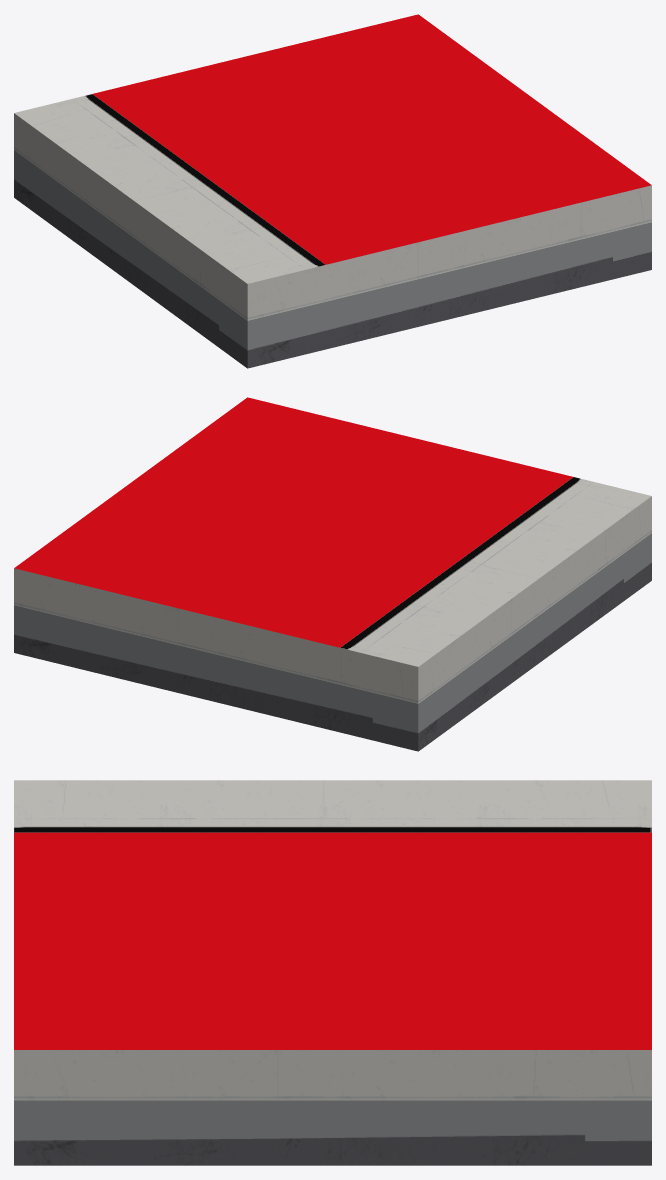
File: G_Env_Arch_Floor_Metal_00_Side.fbx
3 renders of one model, top to bottom at view 1: azimuth 30°, elevation 25°; view 2: azimuth 150°, elevation 25°; view 3: azimuth 270°, elevation 25°, orthographic. The views are drawn at different scales.
Visible parts, largest first — view 1: G_Env_Arch_Floor_Metal_00_Side; view 2: G_Env_Arch_Floor_Metal_00_Side; view 3: G_Env_Arch_Floor_Metal_00_Side.
Boxes of the visible parts, x1,y1,x2,y2 form: G_Env_Arch_Floor_Metal_00_Side: (14, 14, 651, 368); G_Env_Arch_Floor_Metal_00_Side: (14, 397, 651, 751); G_Env_Arch_Floor_Metal_00_Side: (14, 780, 651, 1165).
Bounding box in the file's own units: 500 × 100 × 500.
